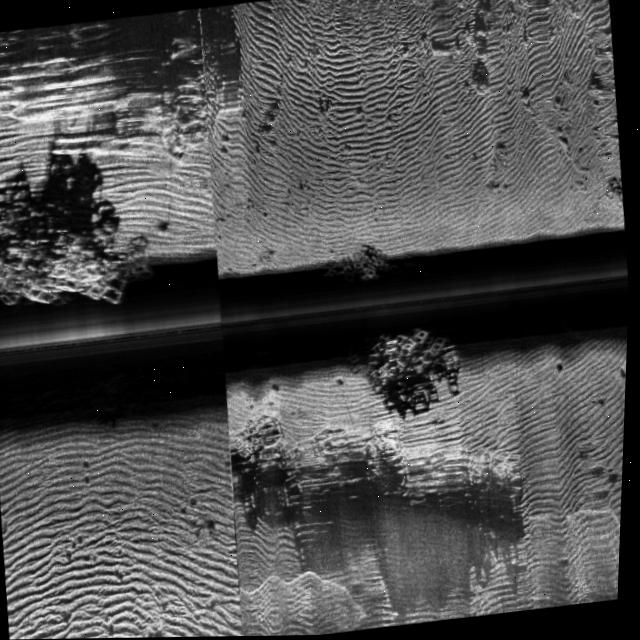artificial reef: (0, 154, 143, 321), (340, 324, 460, 396), (317, 244, 407, 296)
